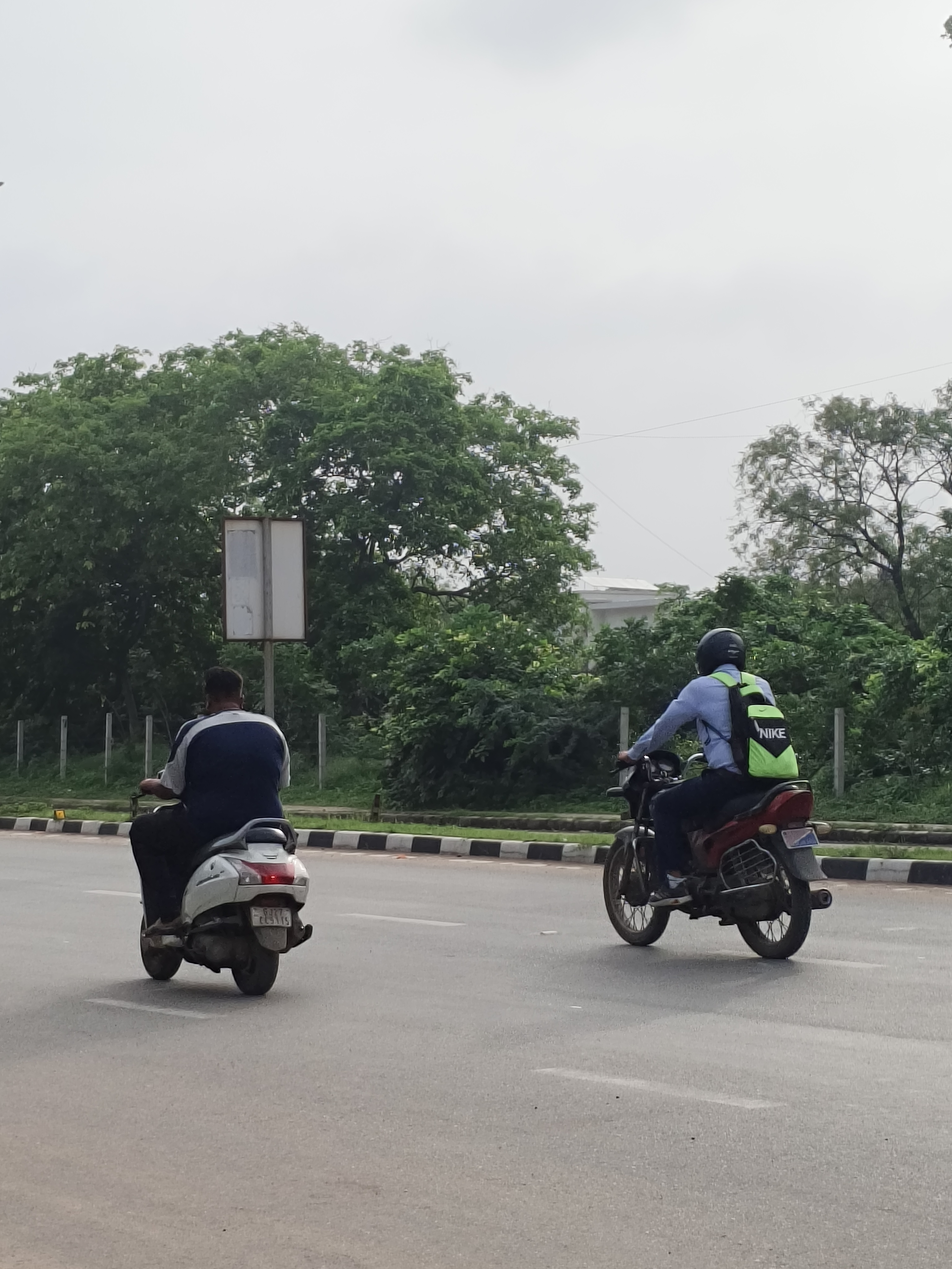BikeWithRider: (594, 625, 841, 965), (115, 657, 318, 995)
Helmet: (689, 627, 755, 676)
NoHelmet: (195, 661, 248, 716)
